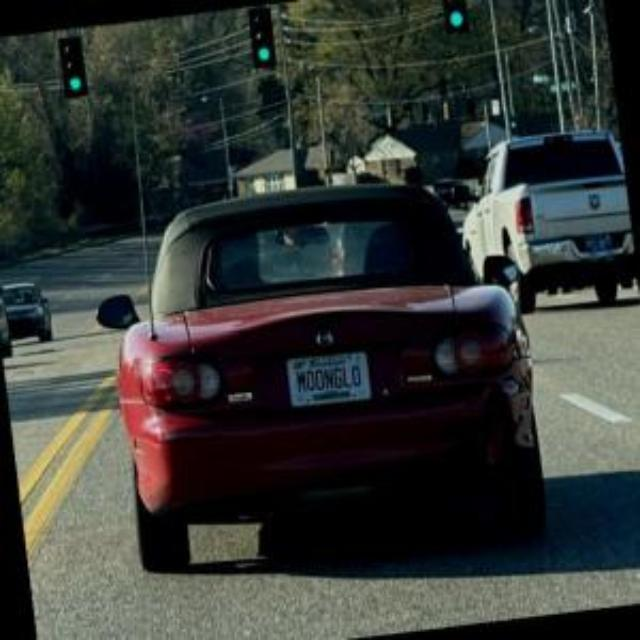License Plate: (286, 350, 371, 408)
